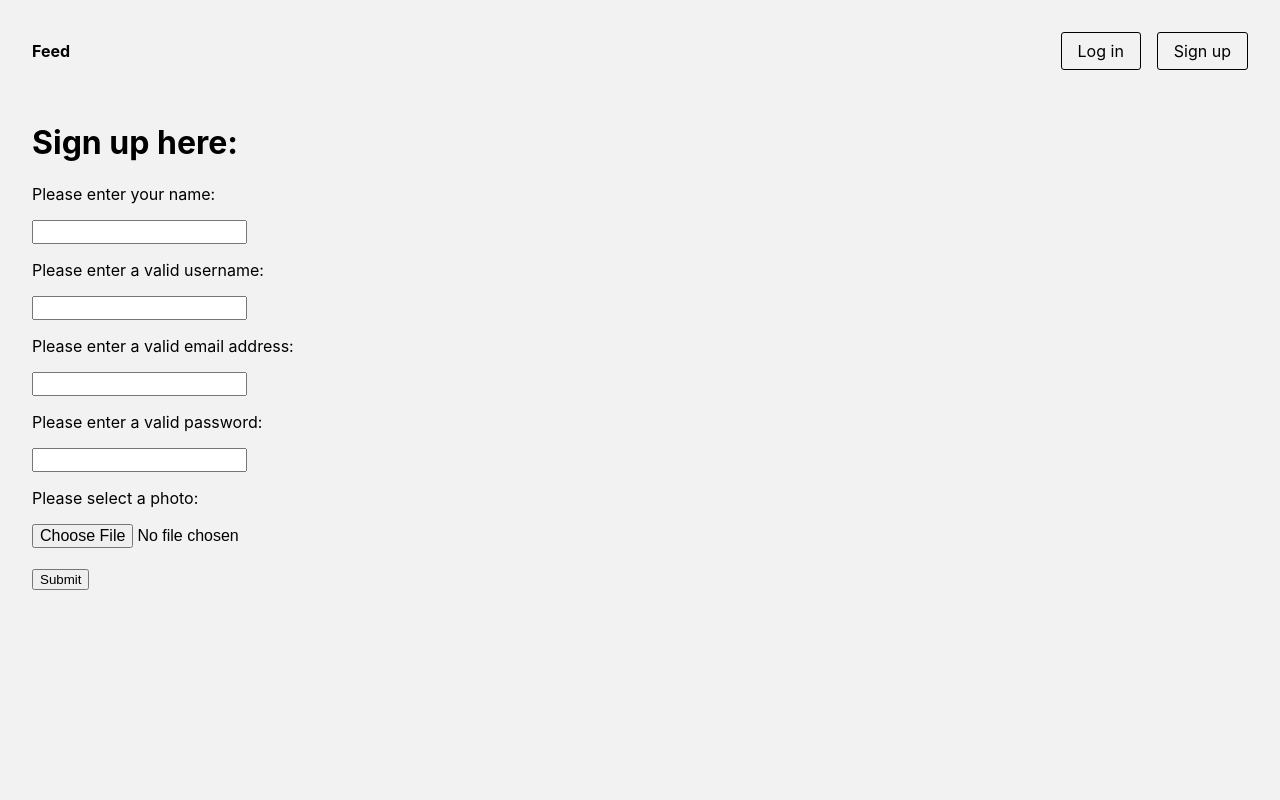
Test: Signup › should display an alert when submitting only the password
Type "12345678" into the password field with test id "password-input" at (140, 460), box [32,448,247,472]
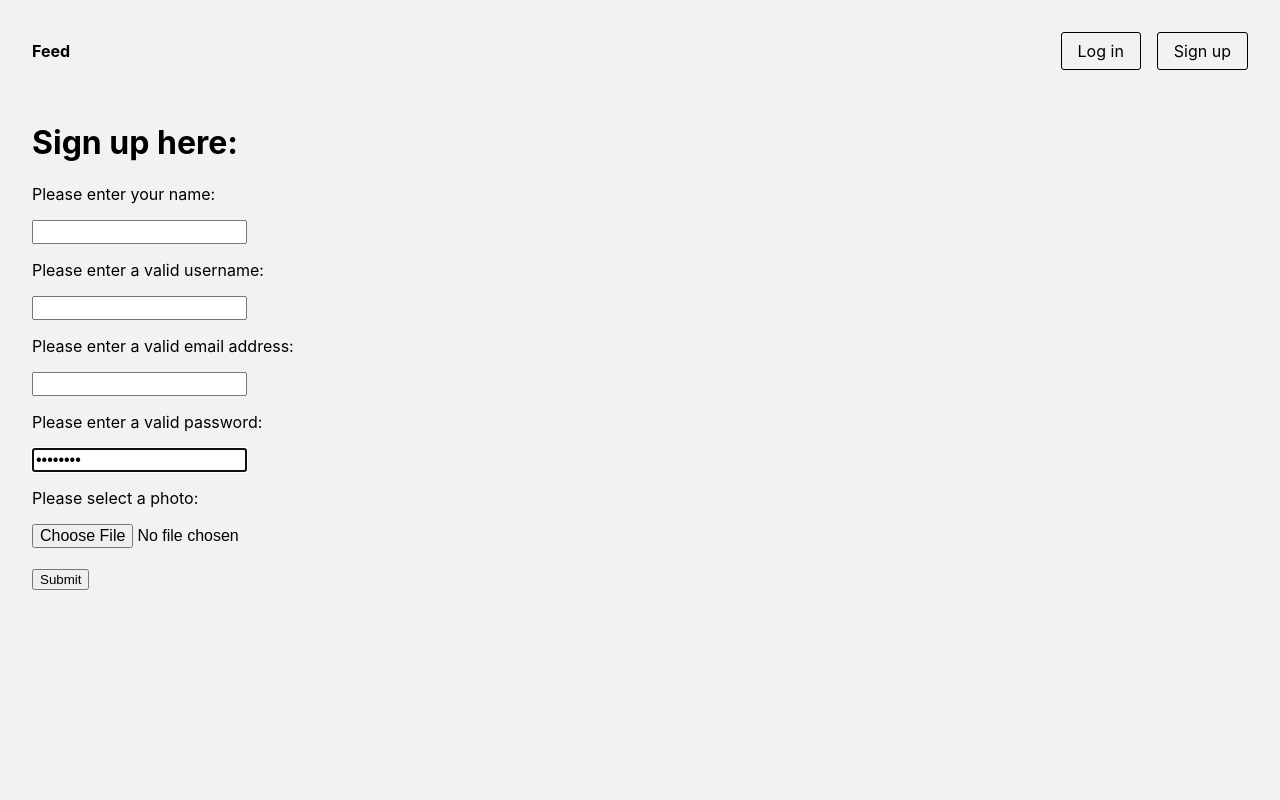
Click the button "Submit" at (61, 580), box [32,569,90,590]
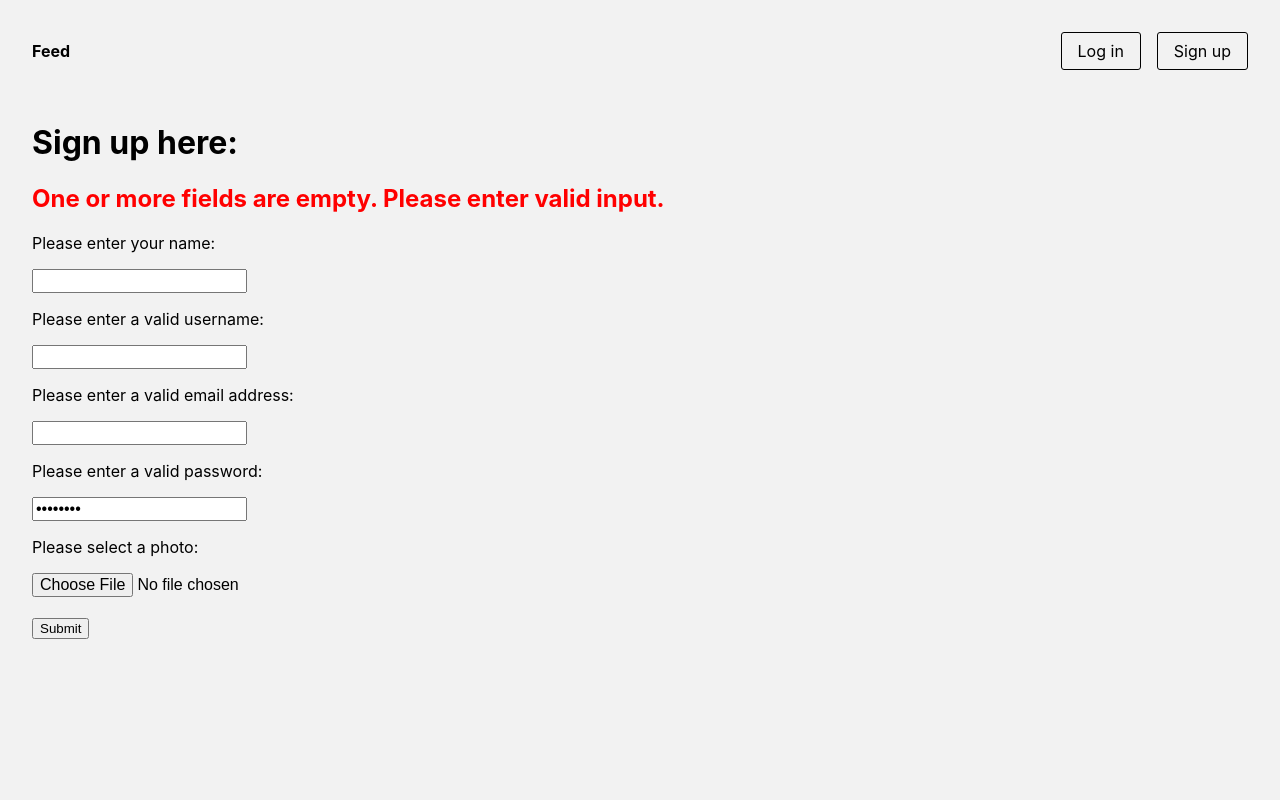
Result: the heading with test id "error-id" reads "One or more fields are empty. Please enter valid input." at [32,184,665,213]
